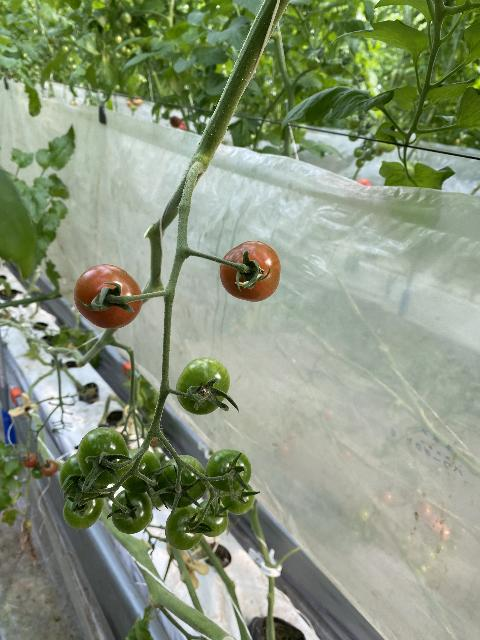l_fully_ripened: (73, 264, 142, 329), (219, 240, 282, 301)
l_green: (176, 356, 231, 416), (76, 427, 130, 485), (159, 454, 208, 508), (59, 452, 107, 500), (205, 449, 251, 493), (118, 449, 163, 493), (112, 489, 152, 535), (165, 505, 204, 551), (62, 492, 104, 531), (218, 482, 255, 515), (196, 500, 229, 537)
